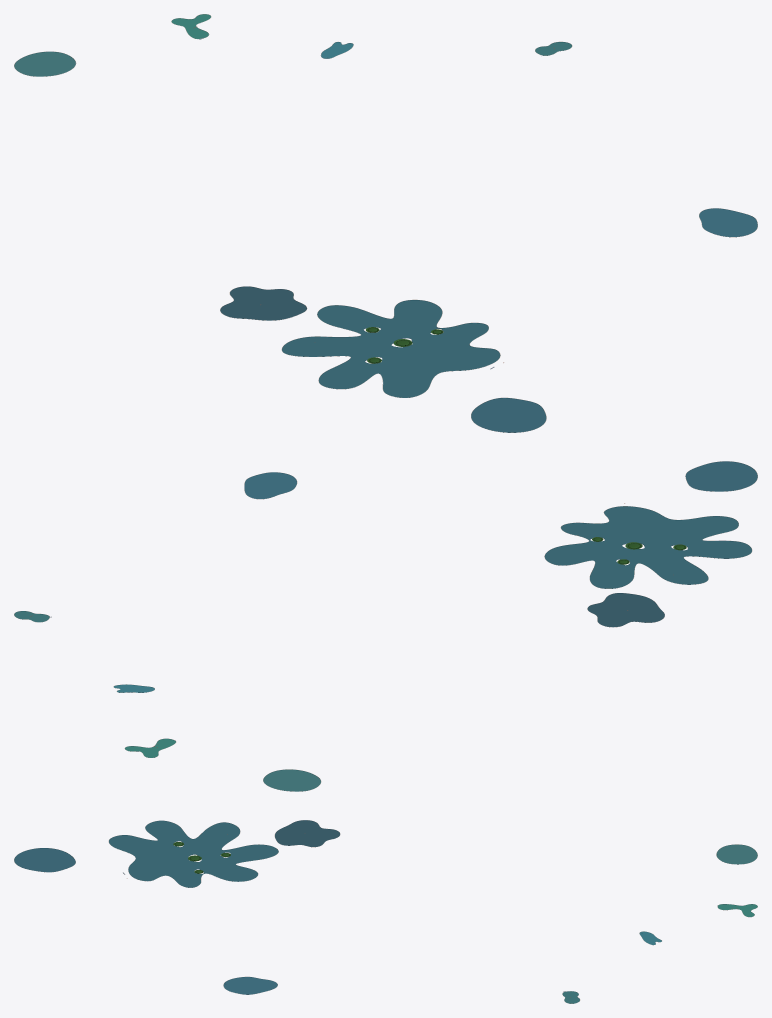
File: ring1_true_lakes_tuyen_lam_than_tho_da_thien_w3.glb
3 views of the same model, one above another, from view 1: azimuth 30°, elevation 25°; view 2: azimuth 150°, elevation 25°; view 3: azimuth 270°, elevation 25° (orthographic). The views are drawn at different scales.
Visible parts, largest first — view 1: WaterSurface_water_ho_tuyen_lam_true_w3, WaterSurface_water_suoi_tia_tuyen_lam_true_w3, WaterSurface_water_suoi_da_hoa_vinh_nam_tuyen_lam_true_w3, WaterSurface_water_ho_da_tam_mimosa_true_w3, WaterSurface_water_ho_van_kiep_da_phu_true_w3; view 2: WaterSurface_water_ho_tuyen_lam_true_w3, WaterSurface_water_suoi_tia_tuyen_lam_true_w3, WaterSurface_water_suoi_da_hoa_vinh_nam_tuyen_lam_true_w3, WaterSurface_water_ho_da_tam_mimosa_true_w3, WaterSurface_water_ho_van_kiep_da_phu_true_w3; view 3: WaterSurface_water_ho_tuyen_lam_true_w3, WaterSurface_water_suoi_tia_tuyen_lam_true_w3, WaterSurface_water_suoi_da_hoa_vinh_nam_tuyen_lam_true_w3, WaterSurface_water_ho_da_tam_mimosa_true_w3, WaterSurface_water_ho_van_kiep_da_phu_true_w3.
Part boxes in pixels (bbox=[...]): WaterSurface_water_ho_tuyen_lam_true_w3: bbox=[282, 300, 500, 397]; WaterSurface_water_suoi_tia_tuyen_lam_true_w3: bbox=[220, 286, 306, 320]; WaterSurface_water_suoi_da_hoa_vinh_nam_tuyen_lam_true_w3: bbox=[471, 398, 546, 432]; WaterSurface_water_ho_da_tam_mimosa_true_w3: bbox=[699, 208, 757, 236]; WaterSurface_water_ho_van_kiep_da_phu_true_w3: bbox=[14, 51, 75, 76]; WaterSurface_water_ho_tuyen_lam_true_w3: bbox=[545, 506, 751, 588]; WaterSurface_water_suoi_tia_tuyen_lam_true_w3: bbox=[587, 593, 664, 627]; WaterSurface_water_suoi_da_hoa_vinh_nam_tuyen_lam_true_w3: bbox=[685, 461, 757, 491]; WaterSurface_water_ho_da_tam_mimosa_true_w3: bbox=[244, 472, 296, 498]; WaterSurface_water_ho_van_kiep_da_phu_true_w3: bbox=[263, 769, 320, 791]; WaterSurface_water_ho_tuyen_lam_true_w3: bbox=[109, 820, 278, 887]; WaterSurface_water_suoi_tia_tuyen_lam_true_w3: bbox=[275, 820, 339, 846]; WaterSurface_water_suoi_da_hoa_vinh_nam_tuyen_lam_true_w3: bbox=[14, 848, 75, 872]; WaterSurface_water_ho_da_tam_mimosa_true_w3: bbox=[223, 977, 277, 994]; WaterSurface_water_ho_van_kiep_da_phu_true_w3: bbox=[716, 844, 757, 864].
Bounding box in the file's own units: 6709 × 126 × 11038.
